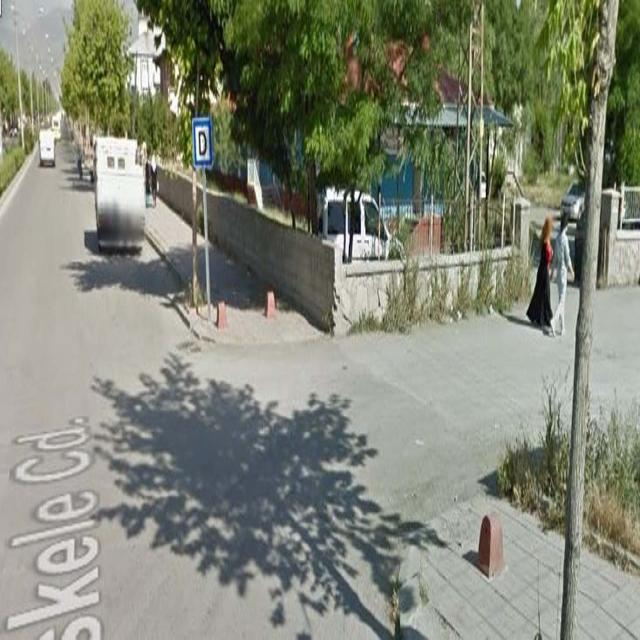durak: (192, 117, 212, 167)
